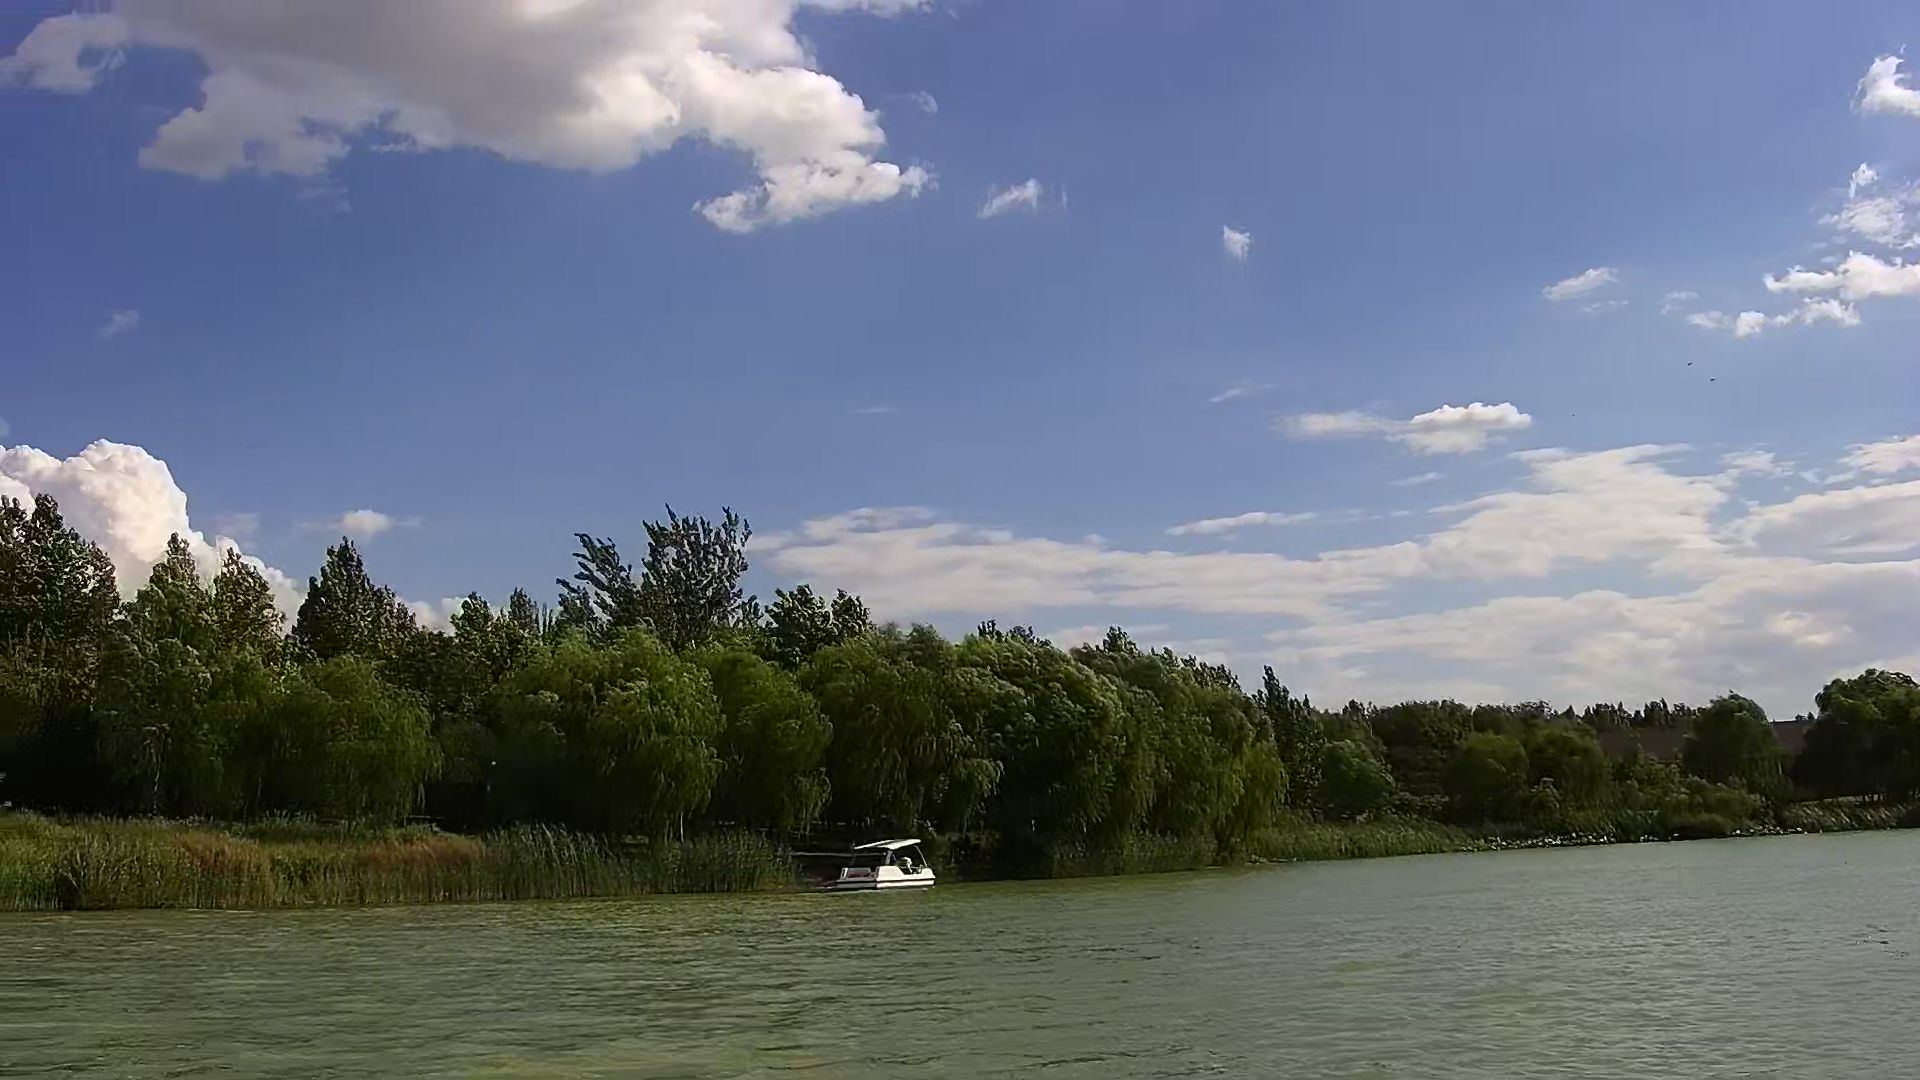boat: (837, 837, 938, 889)
